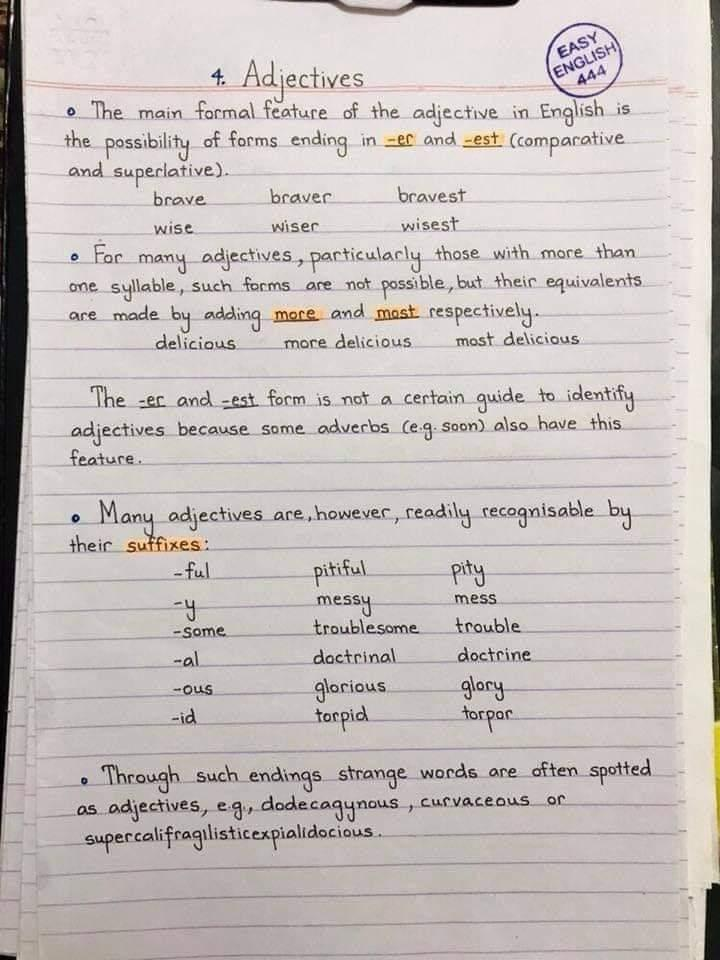text: (82, 755, 656, 798), (68, 496, 636, 539), (68, 240, 642, 279), (64, 268, 646, 306), (68, 410, 625, 449), (59, 126, 628, 164), (63, 95, 635, 128), (88, 381, 639, 415), (75, 790, 567, 828), (66, 297, 540, 334), (83, 822, 386, 859), (205, 53, 366, 104), (63, 157, 232, 192), (67, 533, 212, 556), (310, 615, 422, 640), (554, 39, 619, 82), (282, 332, 414, 353), (451, 330, 581, 350), (313, 675, 388, 708), (310, 645, 398, 669), (313, 702, 373, 737), (458, 703, 516, 739), (66, 445, 145, 471), (312, 554, 370, 589), (153, 331, 241, 354), (395, 182, 469, 209), (454, 643, 534, 666), (313, 591, 376, 620), (453, 614, 525, 638), (398, 211, 461, 238), (458, 671, 508, 703), (555, 30, 601, 63), (268, 185, 334, 208), (446, 557, 491, 589), (149, 188, 210, 210), (267, 216, 322, 238), (170, 623, 228, 642), (451, 587, 500, 609), (171, 559, 214, 583), (150, 219, 197, 238), (575, 62, 607, 89), (170, 595, 199, 623), (172, 681, 216, 699), (168, 707, 200, 729), (172, 650, 203, 669)
